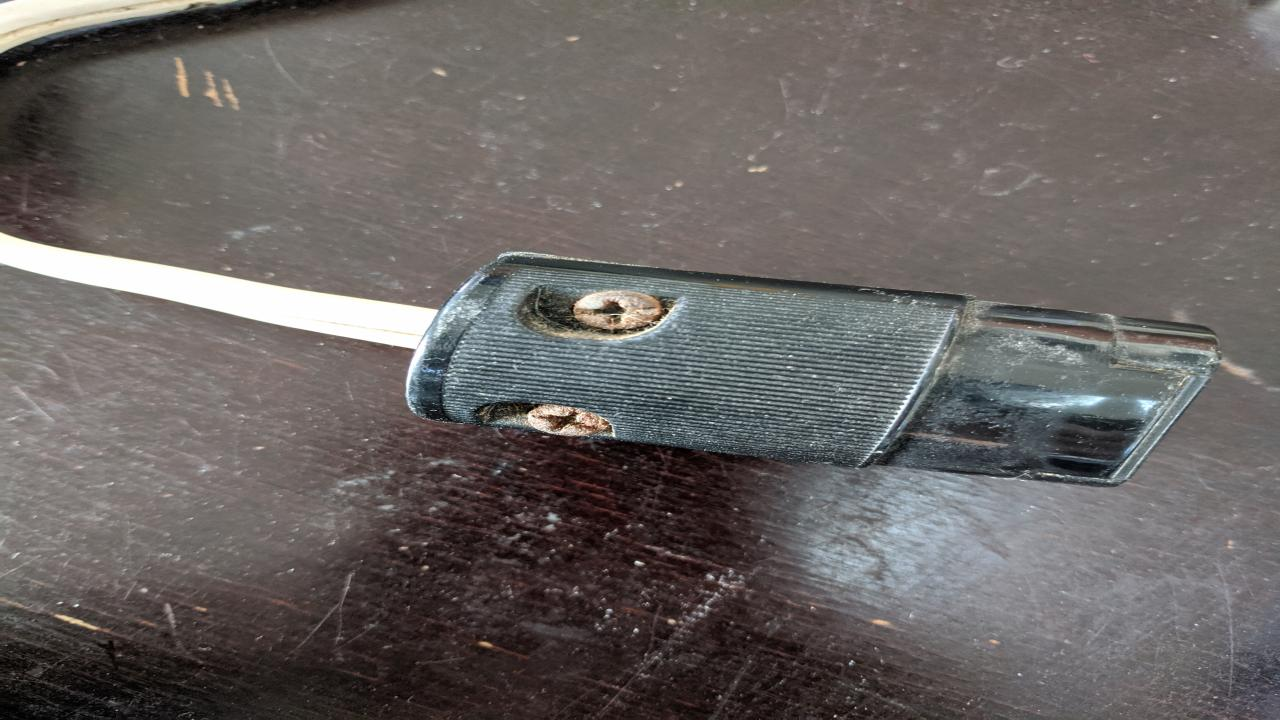CRS: (557, 287, 671, 336), (515, 400, 618, 438)
